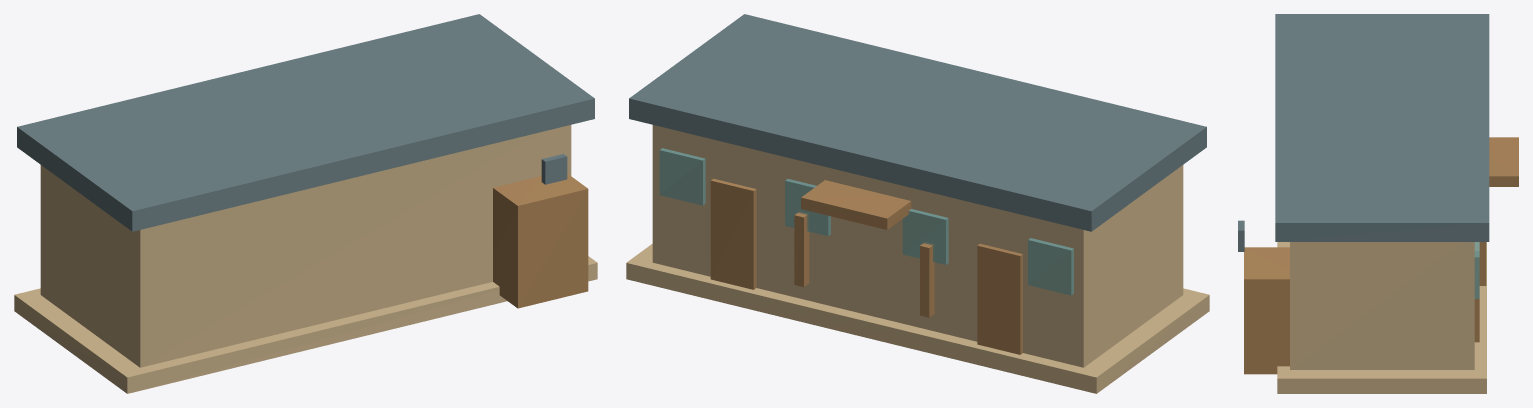
Rendered from bunkhouse.source.glb.
3 views of the same model, side by side, from view 1: azimuth 30°, elevation 25°; view 2: azimuth 150°, elevation 25°; view 3: azimuth 270°, elevation 25° (orthographic). The views are drawn at different scales.
Parts seen in each view (by area): view 1: bunkhouse-long-worker-residence-mesh, bunkhouse-shallow-pitched-roof-mesh, bunkhouse-concrete-foundation-mesh, bunkhouse-rear-utility-annex-mesh, bunkhouse-utility-vent-mesh; view 2: bunkhouse-shallow-pitched-roof-mesh, bunkhouse-long-worker-residence-mesh, bunkhouse-concrete-foundation-mesh, bunkhouse-teal-entry-door-1.7-mesh, bunkhouse-teal-entry-door--1.7-mesh, bunkhouse-central-entry-canopy-mesh, bunkhouse-worker-window-2.35-mesh, bunkhouse-worker-window--2.35-mesh, bunkhouse-worker-window--0.75-mesh, bunkhouse-worker-window-0.75-mesh, bunkhouse-entry-post-0.8-mesh, bunkhouse-entry-post--0.8-mesh; view 3: bunkhouse-shallow-pitched-roof-mesh, bunkhouse-long-worker-residence-mesh, bunkhouse-concrete-foundation-mesh, bunkhouse-rear-utility-annex-mesh, bunkhouse-central-entry-canopy-mesh, bunkhouse-teal-entry-door-1.7-mesh, bunkhouse-entry-post-0.8-mesh, bunkhouse-worker-window-2.35-mesh.
Part boxes in pixels (bbox=[...]): bunkhouse-long-worker-residence-mesh: bbox=[40, 125, 571, 367]; bunkhouse-shallow-pitched-roof-mesh: bbox=[17, 14, 594, 231]; bunkhouse-concrete-foundation-mesh: bbox=[14, 256, 597, 393]; bunkhouse-rear-utility-annex-mesh: bbox=[493, 173, 588, 308]; bunkhouse-utility-vent-mesh: bbox=[541, 154, 567, 184]; bunkhouse-shallow-pitched-roof-mesh: bbox=[629, 14, 1206, 231]; bunkhouse-long-worker-residence-mesh: bbox=[652, 125, 1183, 367]; bunkhouse-concrete-foundation-mesh: bbox=[626, 244, 1209, 393]; bunkhouse-teal-entry-door-1.7-mesh: bbox=[710, 178, 756, 289]; bunkhouse-teal-entry-door--1.7-mesh: bbox=[977, 243, 1022, 354]; bunkhouse-central-entry-canopy-mesh: bbox=[801, 180, 911, 229]; bunkhouse-worker-window-2.35-mesh: bbox=[659, 148, 705, 205]; bunkhouse-worker-window--2.35-mesh: bbox=[1028, 238, 1073, 295]; bunkhouse-worker-window--0.75-mesh: bbox=[902, 209, 948, 264]; bunkhouse-worker-window-0.75-mesh: bbox=[785, 179, 830, 236]; bunkhouse-entry-post-0.8-mesh: bbox=[794, 211, 809, 287]; bunkhouse-entry-post--0.8-mesh: bbox=[920, 242, 934, 317]; bunkhouse-shallow-pitched-roof-mesh: bbox=[1275, 14, 1489, 241]; bunkhouse-long-worker-residence-mesh: bbox=[1290, 242, 1474, 369]; bunkhouse-concrete-foundation-mesh: bbox=[1277, 242, 1486, 393]; bunkhouse-rear-utility-annex-mesh: bbox=[1244, 247, 1289, 374]; bunkhouse-central-entry-canopy-mesh: bbox=[1489, 137, 1518, 186]; bunkhouse-teal-entry-door-1.7-mesh: bbox=[1474, 242, 1479, 342]; bunkhouse-entry-post-0.8-mesh: bbox=[1479, 242, 1486, 285]; bunkhouse-worker-window-2.35-mesh: bbox=[1474, 242, 1479, 298].
Size of the model in its own units: 6 by 2.23 by 3.35.
